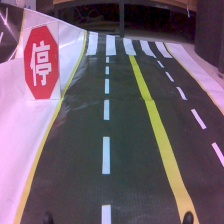stop: (23, 22, 62, 101)
